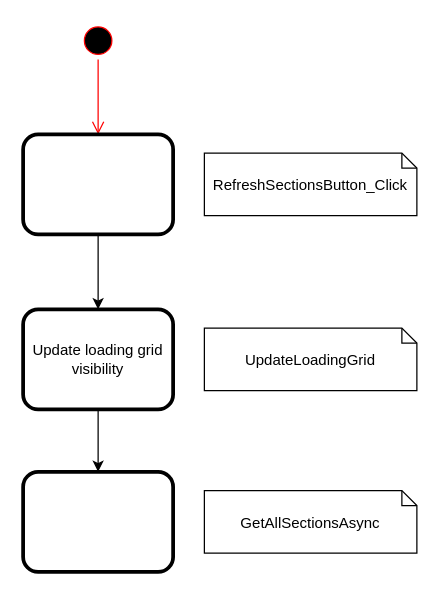
Image size: 439x595. Some labels were removed from this diagram. Here are the shapes that lost their labels. From the top down, the centre of each, then its label:
the point at 97,184: Click refresh sections button
the point at 97,521: Get all sections
